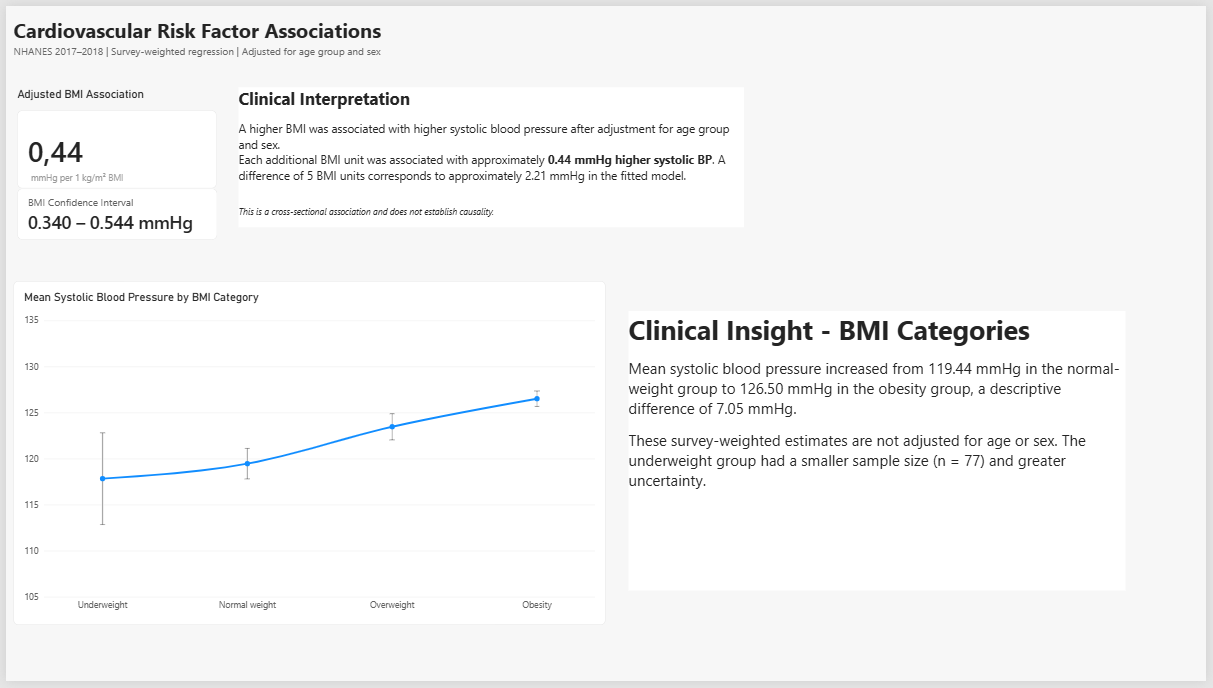

What the dashboard file says about the page in this screenshot:
{"tool":"powerbi","page":{"name":"02 - Adjusted Associations","canvas":[1920,1080],"ordinal":1},"visuals":[{"type":"textbox","box":[12,16,688,132],"z":0},{"type":"textbox","box":[12,60,636,42],"z":1000},{"type":"textbox","box":[372.6,129.7,808.9,224.4],"z":2000},{"type":"cardVisual","title":"Adjusted BMI Association","fields":{"Data":["r_validated_interaction_model.BMI Coefficient"]},"box":[18.5,129.7,319,162.6],"z":3000},{"type":"cardVisual","fields":{"Data":["r_validated_groups.BMI Confidence Interval"]},"box":[18.5,292.3,320,82],"z":4000},{"type":"textbox","box":[39.1,263.5,249.1,28.8],"z":5000},{"type":"lineChart","title":"Mean Systolic Blood Pressure by BMI Category","fields":{"Category":["r_validated_bmi_groups.bmi_category"],"Y":["Avg(r_validated_bmi_groups.sbp_mean)"]},"box":[12.5,440,947.5,550],"z":7000},{"type":"textbox","box":[995,487.5,795,447.5],"z":7001}]}

Visuals, with their boxes in screenshot pixels (x1, y1, x2, y2), scaled from the page's 1920x1080 canvas onto the 1213x688 screenshot:
textbox: 8, 10, 442, 94
textbox: 8, 38, 409, 65
textbox: 235, 83, 746, 226
"Adjusted BMI Association" cardVisual: 12, 83, 213, 186
cardVisual - r_validated_groups.BMI Confidence Interval: 12, 186, 214, 238
textbox: 25, 168, 182, 186
"Mean Systolic Blood Pressure by BMI Category" lineChart: 8, 280, 606, 631
textbox: 629, 311, 1131, 596
